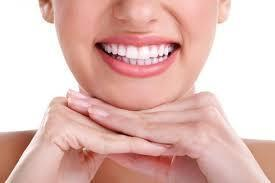normal: (126, 44, 139, 60), (137, 46, 150, 60), (117, 44, 128, 57), (149, 45, 159, 58), (111, 44, 119, 56), (142, 58, 152, 67), (127, 58, 136, 67), (135, 58, 144, 67), (104, 43, 111, 54), (159, 45, 165, 57), (120, 56, 128, 65), (151, 57, 158, 66), (164, 47, 169, 57), (158, 56, 165, 63), (162, 55, 169, 61), (115, 56, 121, 62), (168, 47, 172, 54)
